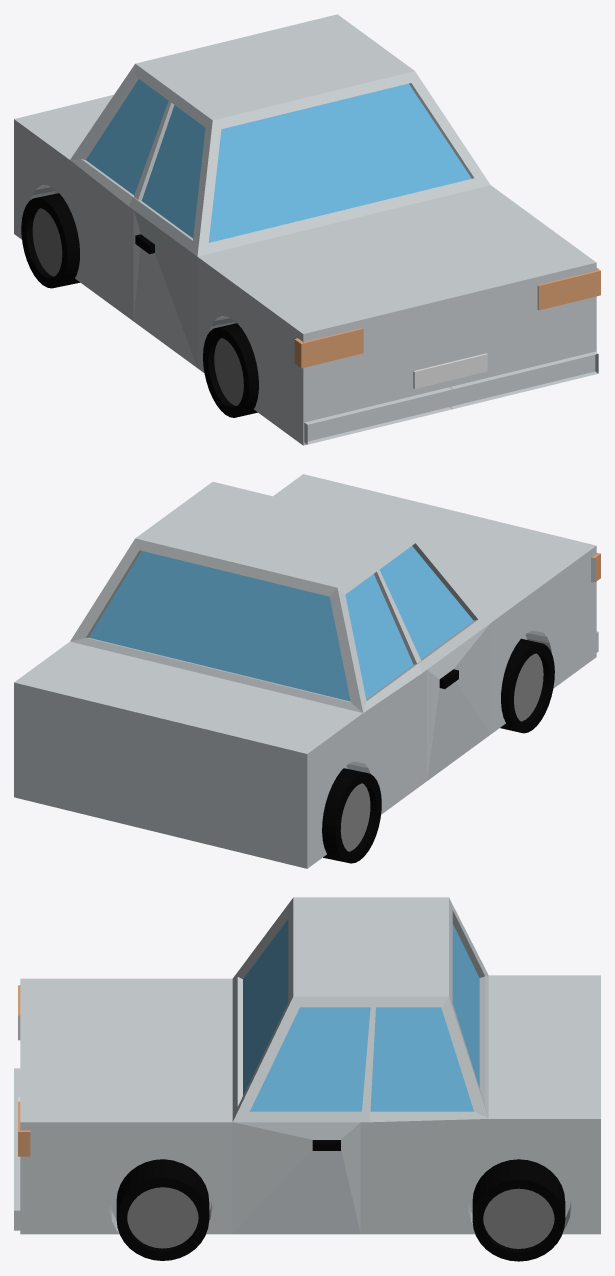
Rendered from car4.glb.
The picture shows the model from 3 angles, top to bottom: view 1: azimuth 30°, elevation 25°; view 2: azimuth 150°, elevation 25°; view 3: azimuth 270°, elevation 25°; orthographic projection.
Visible parts, largest first — view 1: Cube; view 2: Cube; view 3: Cube.
Part boxes in pixels (x1,y1,x2,y2): Cube: [14, 14, 600, 445]; Cube: [14, 474, 600, 868]; Cube: [14, 897, 600, 1261].
Bounding box in the file's own units: 3.07 × 2.17 × 4.87.
